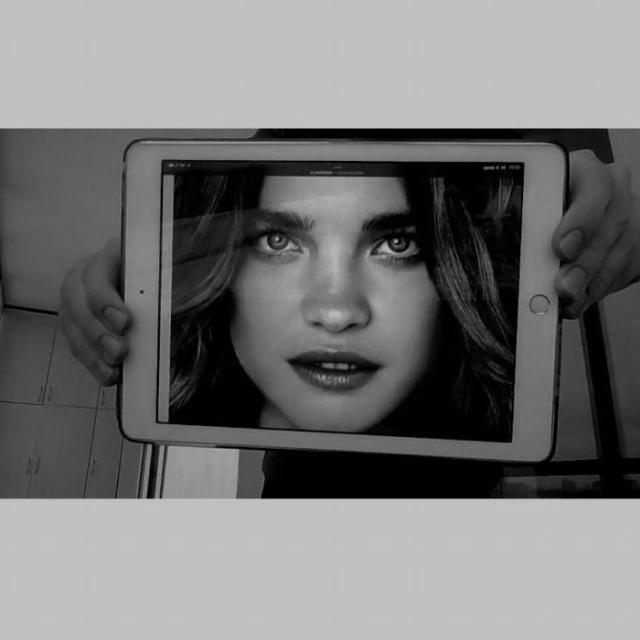fake: (108, 132, 572, 470)
